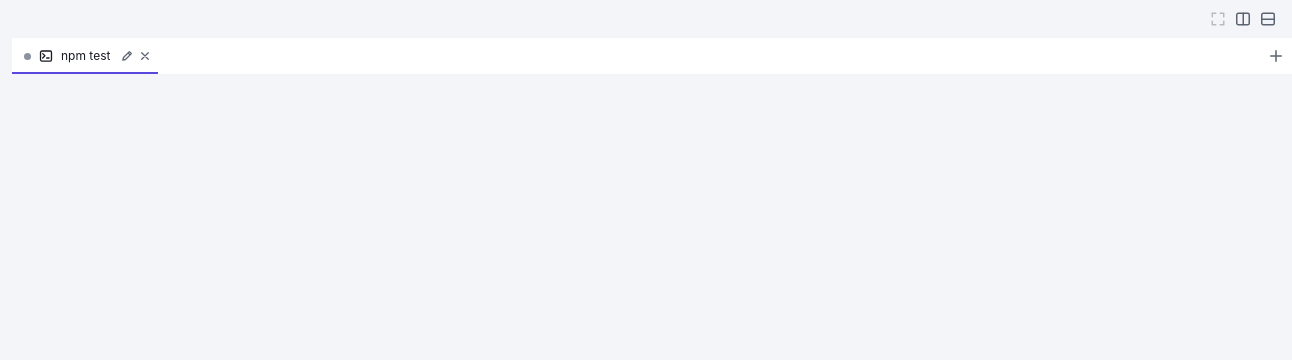
Test: the menu the + opens › starts the chosen agent through the store as a tab of the group, and closes
Step 1. Click the button named "New tab" → (1276, 56), box [1264, 44, 1288, 68]
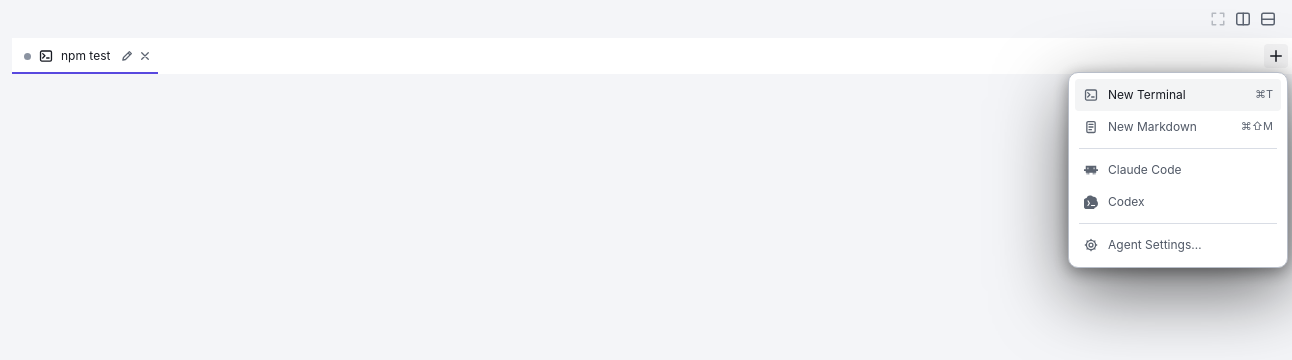
Step 2. Click the menu item "Codex" → (1114, 202), box [1084, 194, 1145, 209]
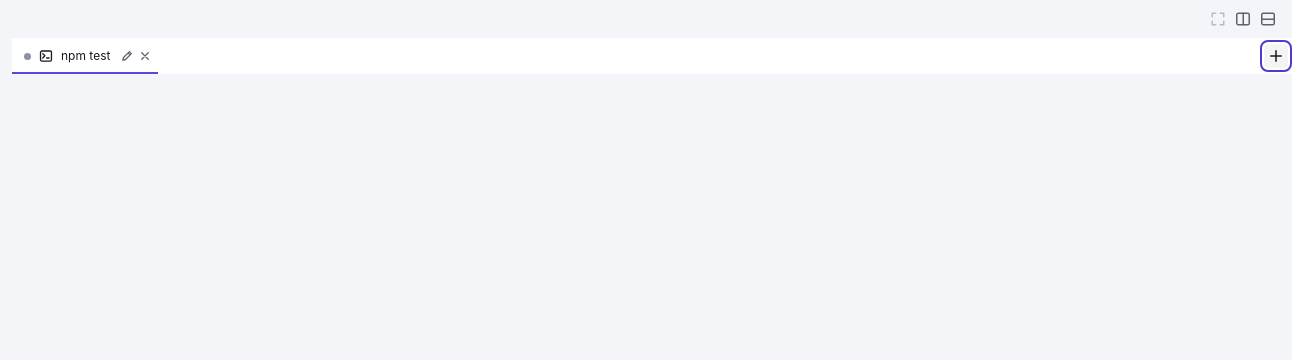
Expected: the menu is gone
